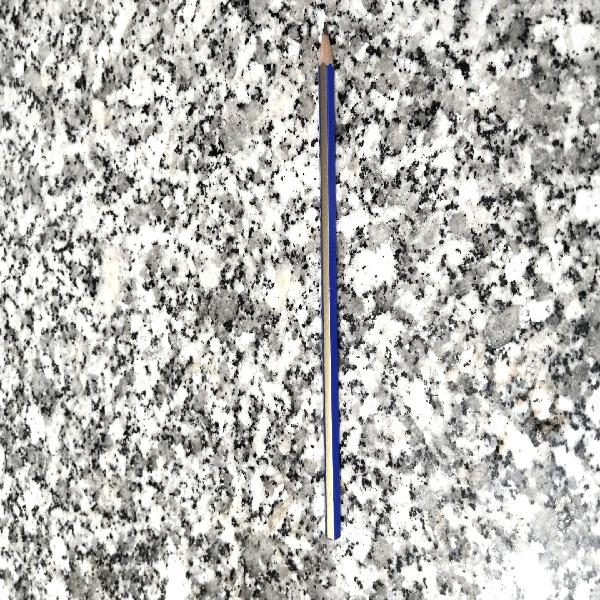pencil: (313, 26, 348, 544)
